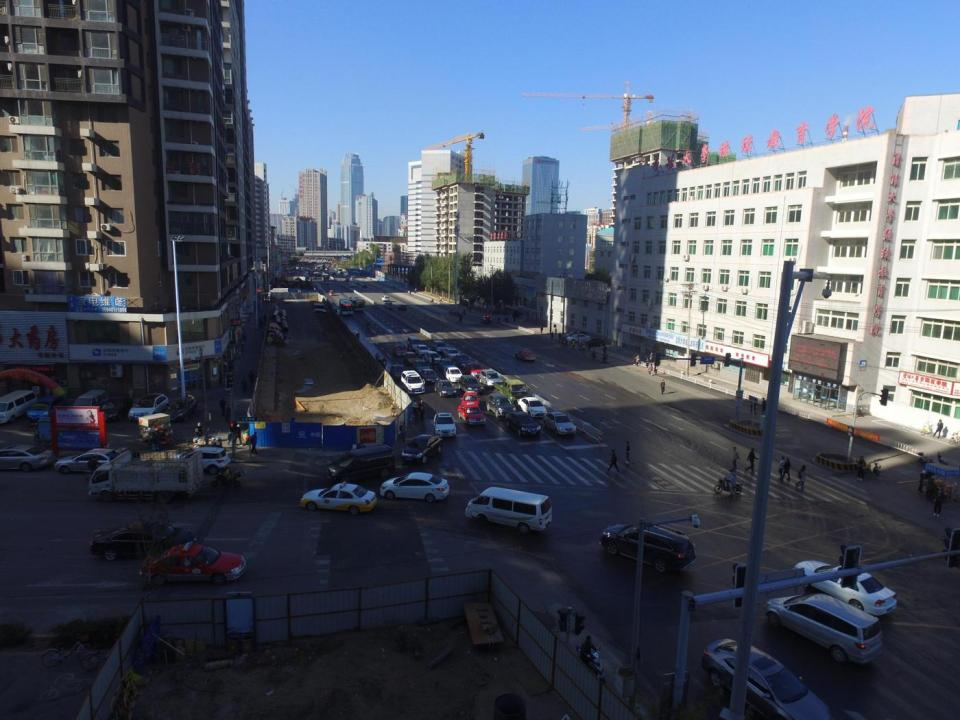bus: (340, 297, 356, 317), (350, 296, 366, 312), (322, 273, 330, 282), (314, 273, 322, 280), (339, 271, 348, 277), (336, 268, 344, 274), (308, 269, 314, 275)
car: (700, 633, 831, 720), (795, 556, 901, 619), (600, 517, 695, 575), (144, 544, 248, 584), (92, 522, 199, 559), (376, 471, 448, 508), (299, 483, 379, 515), (0, 440, 57, 475), (173, 442, 231, 474), (53, 448, 118, 475), (400, 434, 442, 464), (129, 390, 169, 421), (505, 407, 543, 439), (542, 409, 579, 437), (28, 393, 63, 420), (100, 395, 133, 423), (429, 410, 458, 441), (165, 398, 198, 423), (457, 402, 487, 428), (517, 396, 549, 420), (486, 393, 516, 416), (458, 374, 483, 394), (477, 370, 502, 388), (434, 380, 458, 398), (514, 346, 538, 364), (388, 362, 409, 381), (461, 388, 483, 406), (445, 364, 464, 384), (422, 367, 441, 385), (455, 351, 472, 368), (582, 337, 608, 348), (465, 362, 484, 377), (562, 330, 586, 341), (444, 346, 462, 360), (401, 350, 419, 364), (425, 351, 442, 365), (432, 339, 450, 351), (392, 343, 408, 356), (415, 344, 432, 356), (439, 359, 456, 371), (566, 334, 591, 342), (414, 358, 429, 371), (480, 314, 493, 324), (397, 303, 407, 311), (380, 294, 390, 301), (328, 289, 335, 297), (362, 284, 368, 289), (348, 282, 353, 288), (352, 281, 357, 287), (308, 274, 314, 279), (325, 280, 331, 284), (356, 280, 360, 284), (345, 278, 349, 282), (332, 272, 336, 276), (303, 267, 308, 270)
truck: (89, 448, 203, 502), (494, 373, 527, 402), (266, 286, 291, 300)
van: (766, 592, 888, 668), (466, 483, 554, 535), (327, 444, 397, 484), (0, 386, 38, 426), (73, 389, 108, 417), (399, 370, 426, 397), (405, 335, 423, 352), (384, 301, 394, 309), (350, 276, 356, 280)
